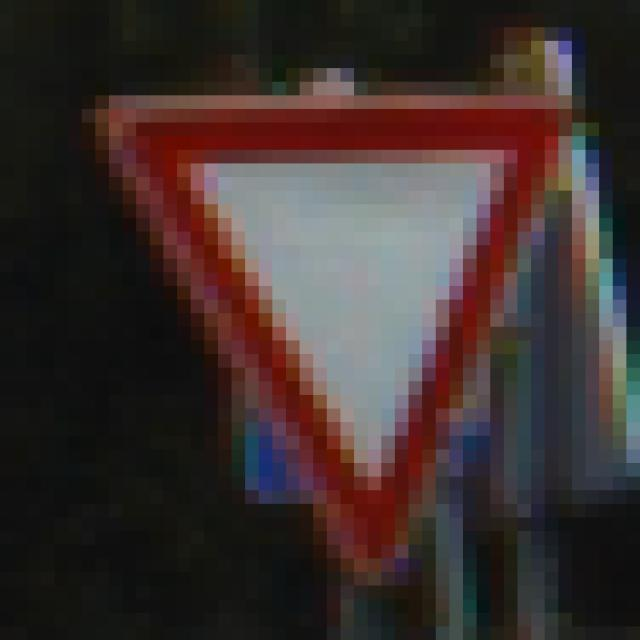Give Way: (83, 83, 559, 559)
